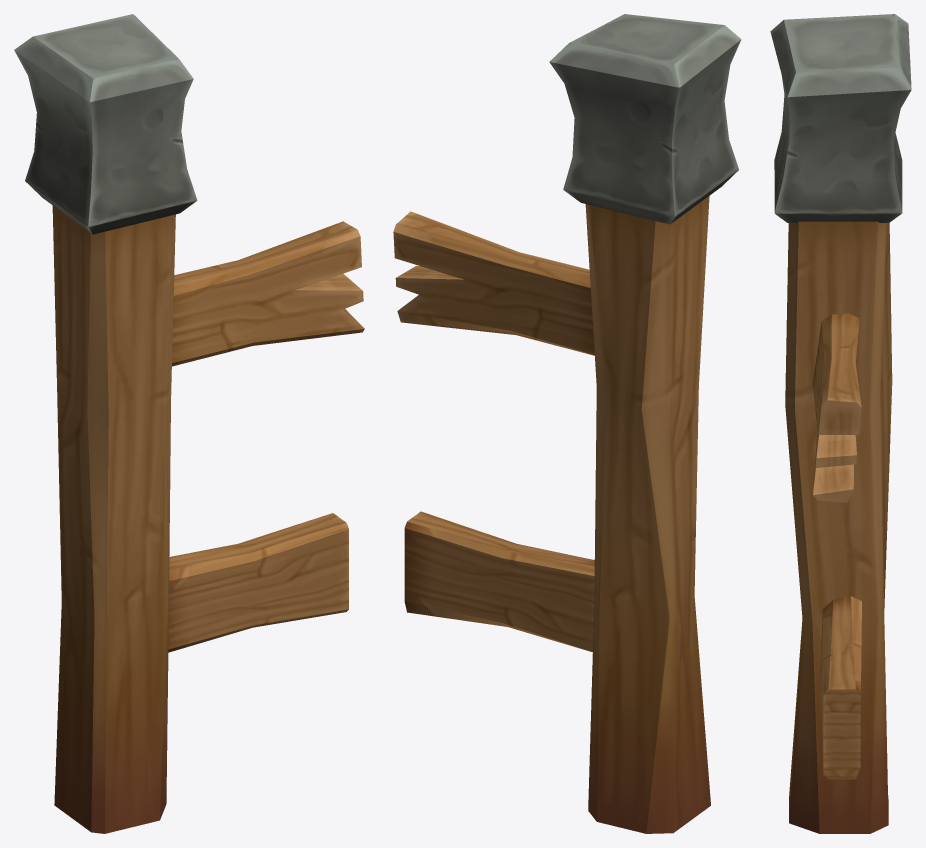
The model's file is Fence #2 - Post.fbx.
3 renders of one model, left to right at view 1: azimuth 30°, elevation 25°; view 2: azimuth 150°, elevation 25°; view 3: azimuth 270°, elevation 25°, orthographic. The views are drawn at different scales.
Parts seen in each view (by area): view 1: Fence #2 - Post; view 2: Fence #2 - Post; view 3: Fence #2 - Post.
Part boxes in pixels (x1,y1,x2,y2): Fence #2 - Post: (14,14,364,833); Fence #2 - Post: (393,14,741,833); Fence #2 - Post: (770,14,911,833).
Size of the model in its own units: 61.05 by 147 by 24.32.
Materials: 1 (1 with a texture image).
